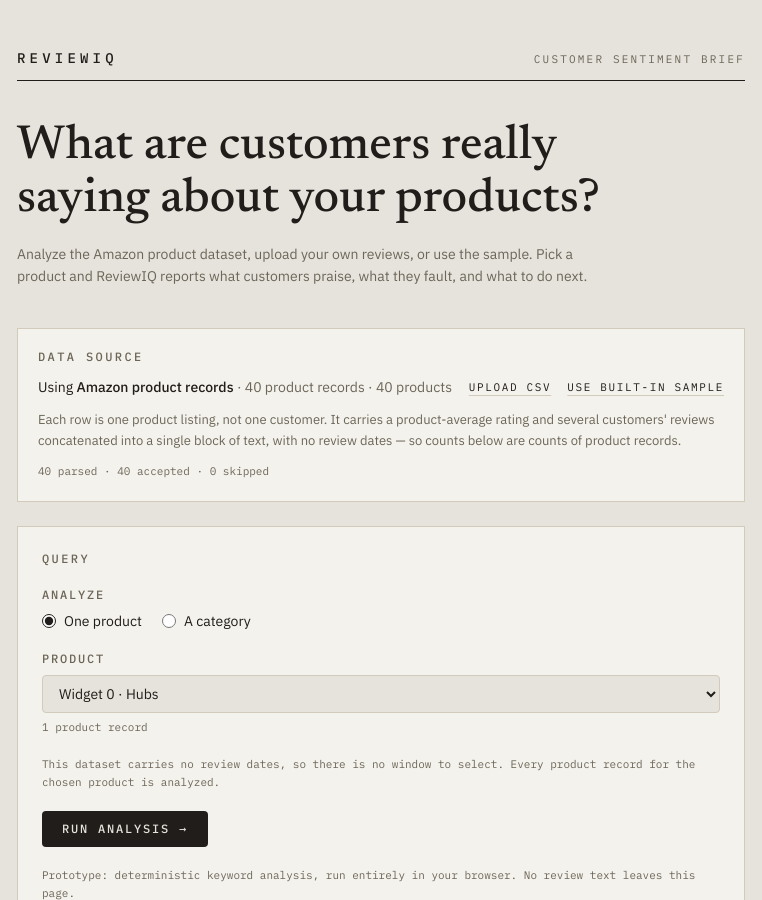
Test: the heuristic engine keeps its old, simpler flow › still reaches a report, with Copy available only once it exists
This screenshot has width=762, height=900.
Click the radio button labelled "A category": point(169, 621) [162,614,176,628]
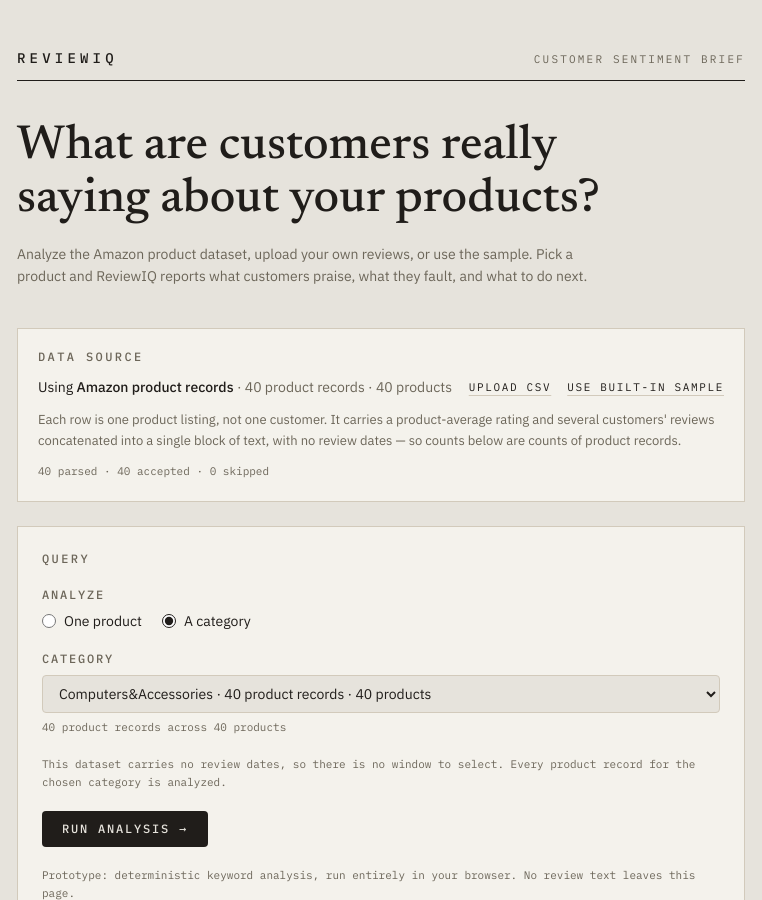
Click the submit button: point(125, 830) [42,812,208,848]
(page scrolled)
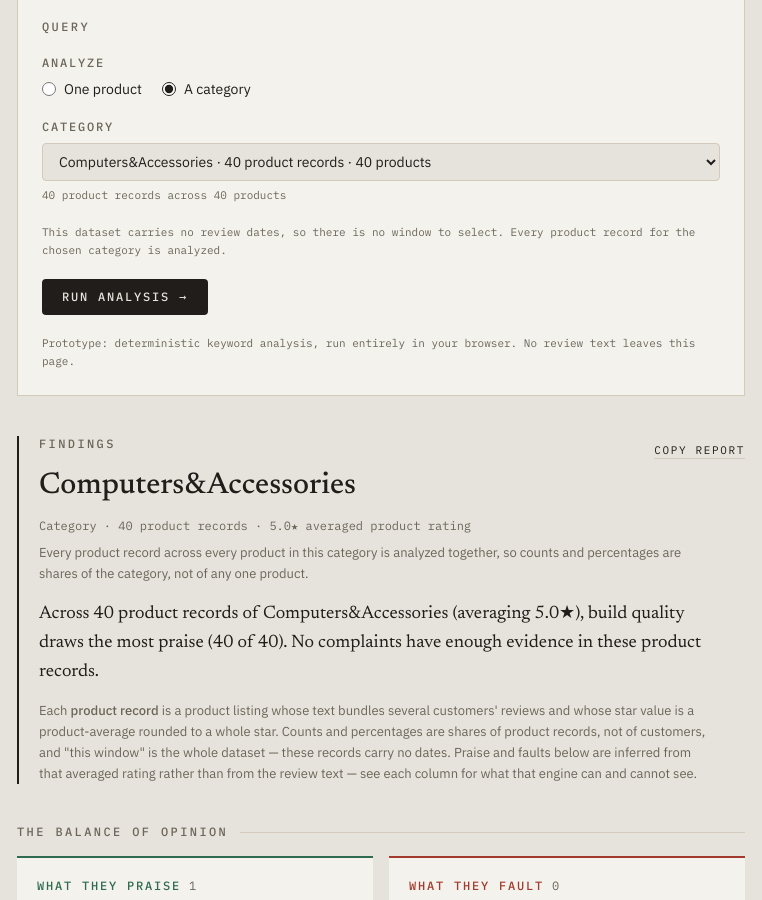
Now the button "Copy report" is shown, box [654,442,745,459]
